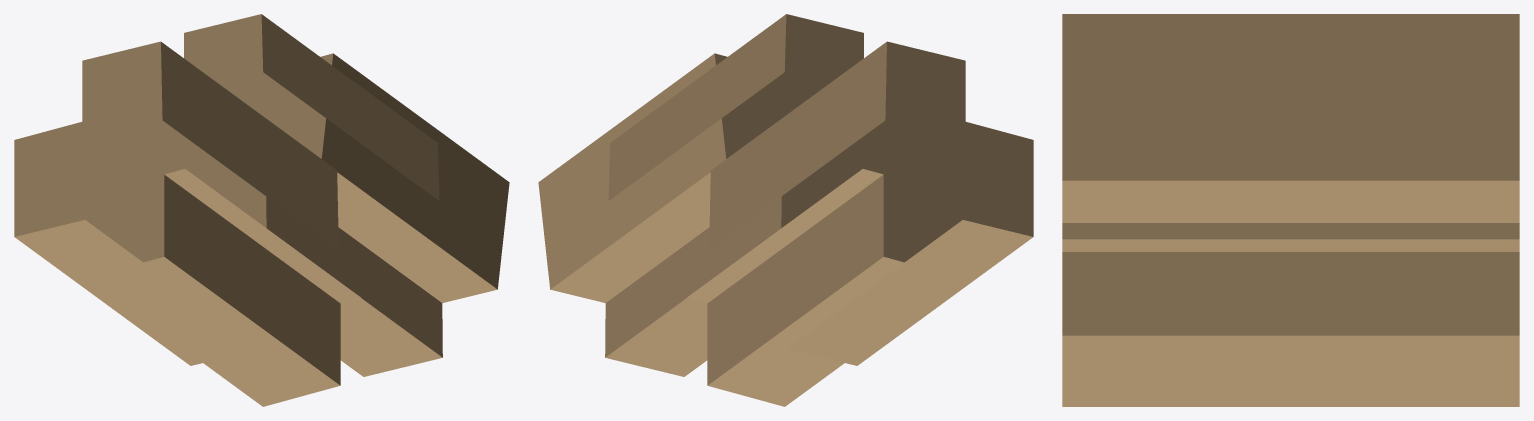
3 views of the same model, side by side, from view 1: azimuth 30°, elevation 25°; view 2: azimuth 150°, elevation 25°; view 3: azimuth 270°, elevation 25° (orthographic). The views are drawn at different scales.
Visible parts, largest first — view 1: 0_0_1_2_0; view 2: 0_0_1_2_0; view 3: 0_0_1_2_0.
Part boxes in pixels (left/top/right/bottom): 0_0_1_2_0: left=14, top=14, right=509, bottom=406; 0_0_1_2_0: left=538, top=14, right=1033, bottom=406; 0_0_1_2_0: left=1062, top=14, right=1519, bottom=406.
Bounding box in the file's own units: 28.2 × 18.7 × 27.
